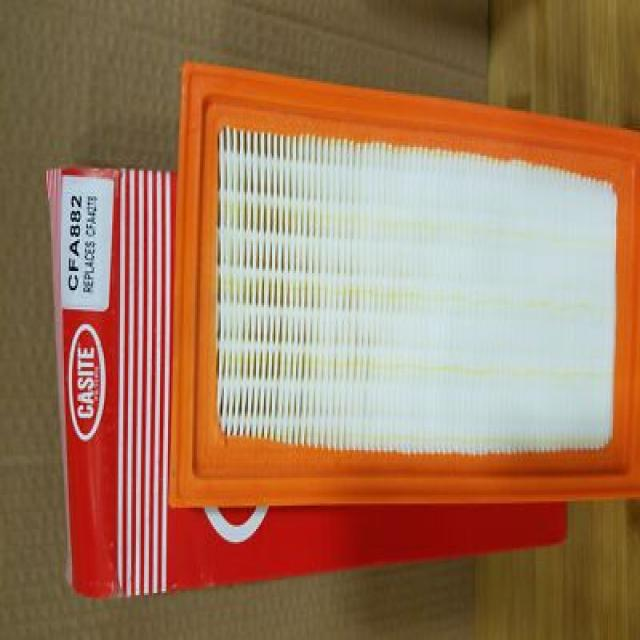air_filter: (171, 55, 640, 504)
